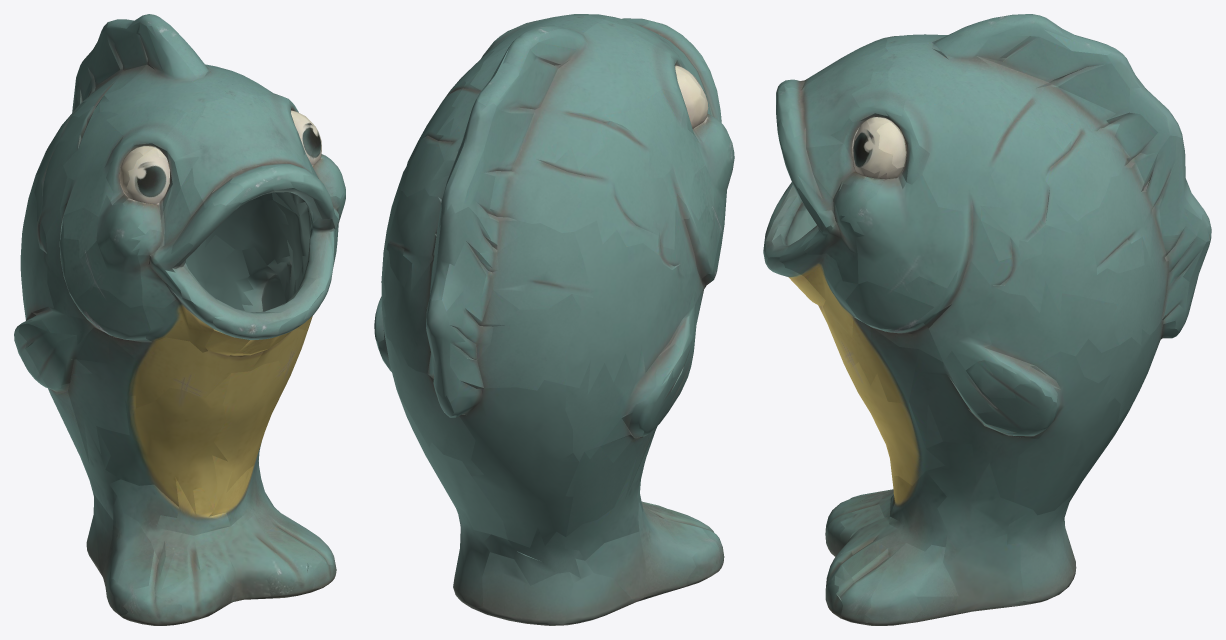
The model's file is cestino_pesce.glb.
The picture shows the model from 3 angles, left to right: view 1: azimuth 30°, elevation 25°; view 2: azimuth 150°, elevation 25°; view 3: azimuth 270°, elevation 25°; orthographic projection. The views are drawn at different scales.
Visible parts, largest first — view 1: Mesh_0; view 2: Mesh_0; view 3: Mesh_0.
Part boxes in pixels (x1,y1,x2,y2): Mesh_0: (14,14,345,625); Mesh_0: (374,14,734,625); Mesh_0: (763,14,1211,625).
Bounding box in the file's own units: 1.03 × 1.9 × 1.39.
1 material, 1 textured.
